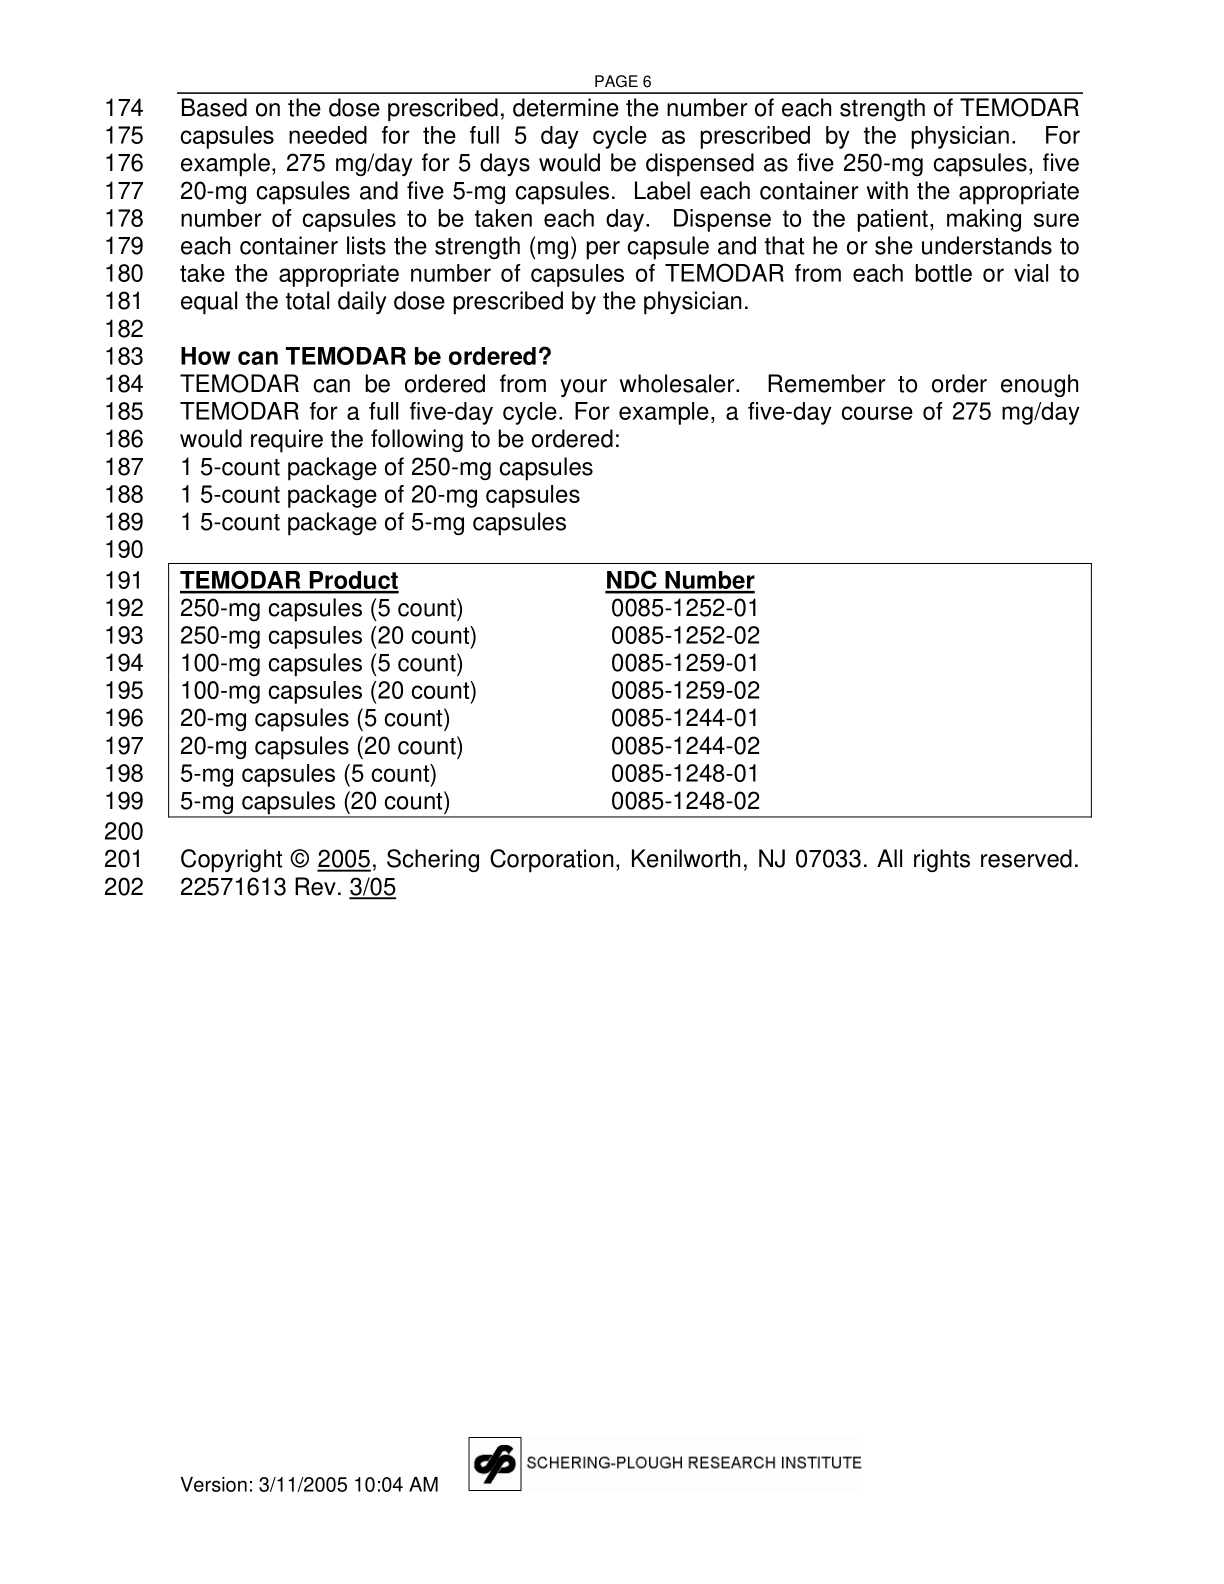partial_lined: (165, 559, 1097, 822)
